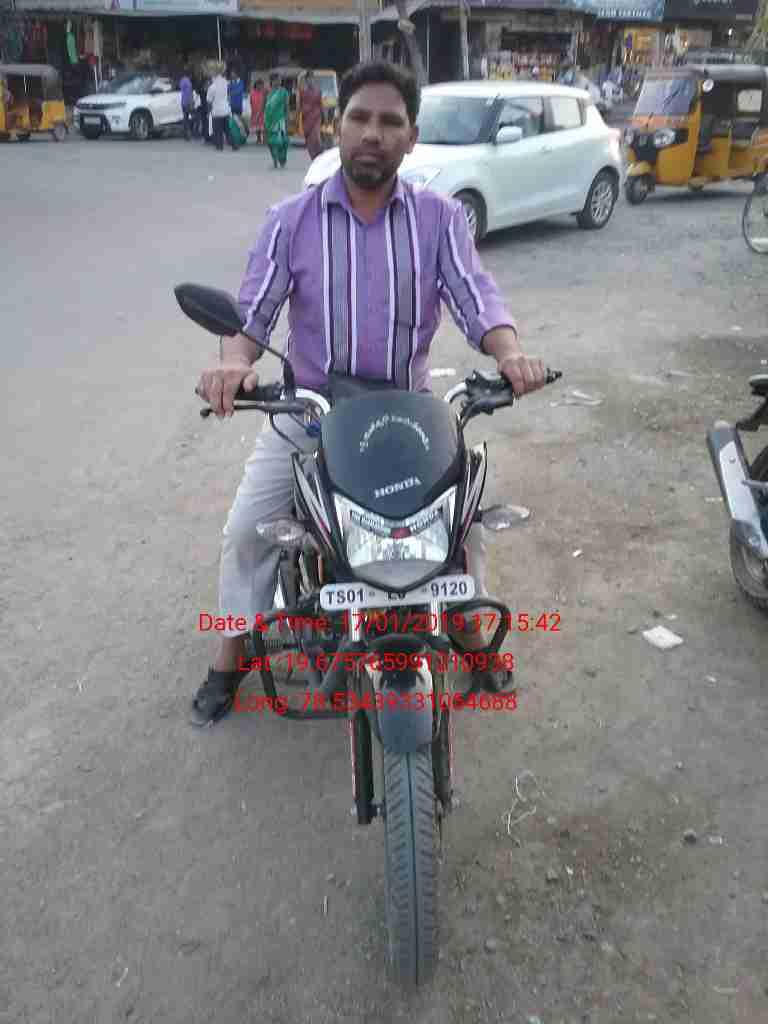plate: (311, 572, 479, 610)
